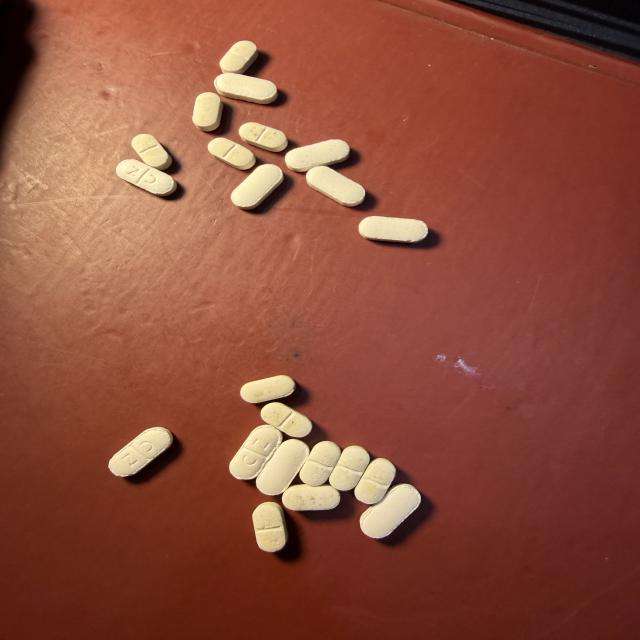pill: (360, 484, 420, 538), (109, 428, 173, 476), (257, 439, 308, 495), (230, 425, 282, 479), (307, 166, 365, 206), (231, 165, 283, 209), (117, 160, 176, 196), (285, 140, 350, 172), (214, 73, 277, 103), (300, 441, 340, 486), (355, 459, 395, 504), (359, 217, 428, 243), (329, 446, 369, 490), (261, 403, 312, 437), (253, 502, 287, 552), (240, 375, 295, 403), (282, 484, 340, 510), (208, 138, 255, 169), (132, 134, 172, 170), (239, 123, 288, 152), (192, 92, 223, 131), (220, 41, 257, 73)
